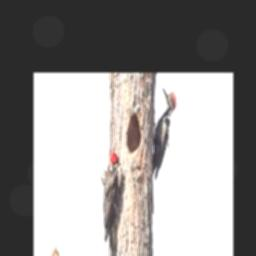Woodpecker: (152, 86, 177, 180), (103, 152, 122, 256)
